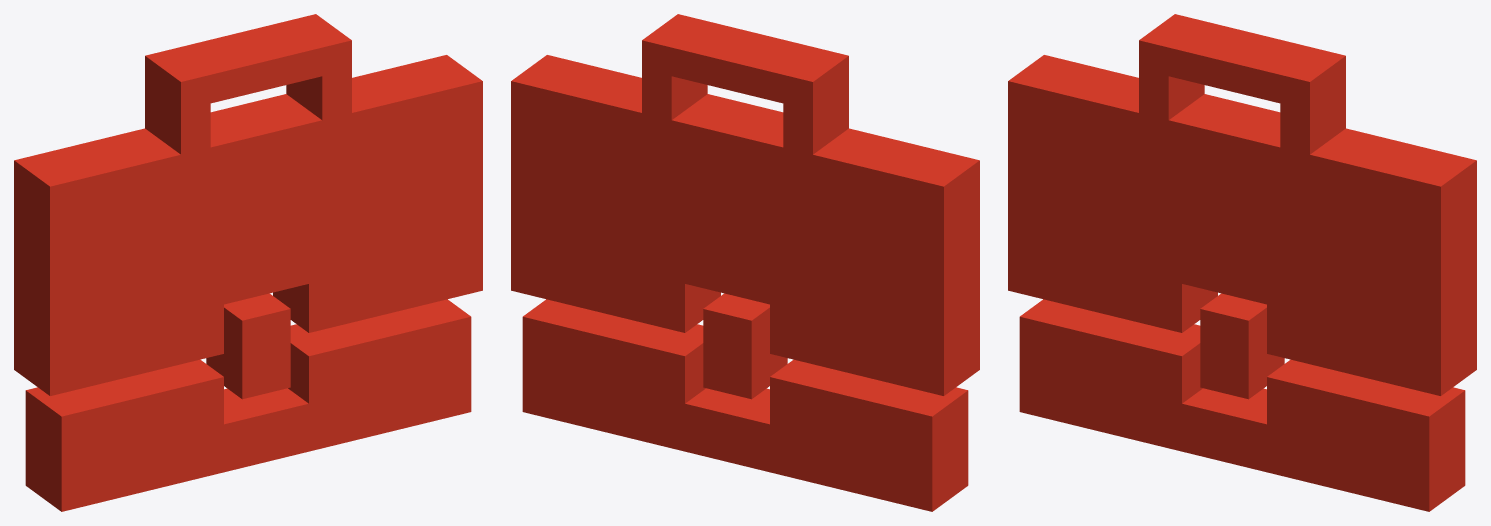
File: Icon_Baggage_01.fbx
The picture shows the model from 3 angles, left to right: view 1: azimuth 30°, elevation 25°; view 2: azimuth 150°, elevation 25°; view 3: azimuth 330°, elevation 25°; orthographic projection.
Parts seen in each view (by area): view 1: Icon_Baggage_01; view 2: Icon_Baggage_01; view 3: Icon_Baggage_01.
Boxes of the visible parts, x1,y1,x2,y2 form: Icon_Baggage_01: (14, 14, 482, 511); Icon_Baggage_01: (511, 14, 979, 511); Icon_Baggage_01: (1008, 14, 1476, 511).
Bounding box in the file's own units: 83.75 × 74.13 × 12.06.
